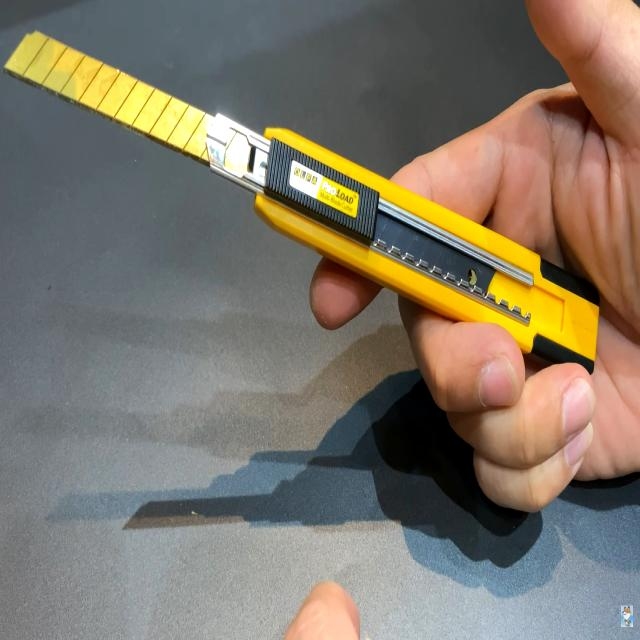cutter: (1, 0, 639, 528)
